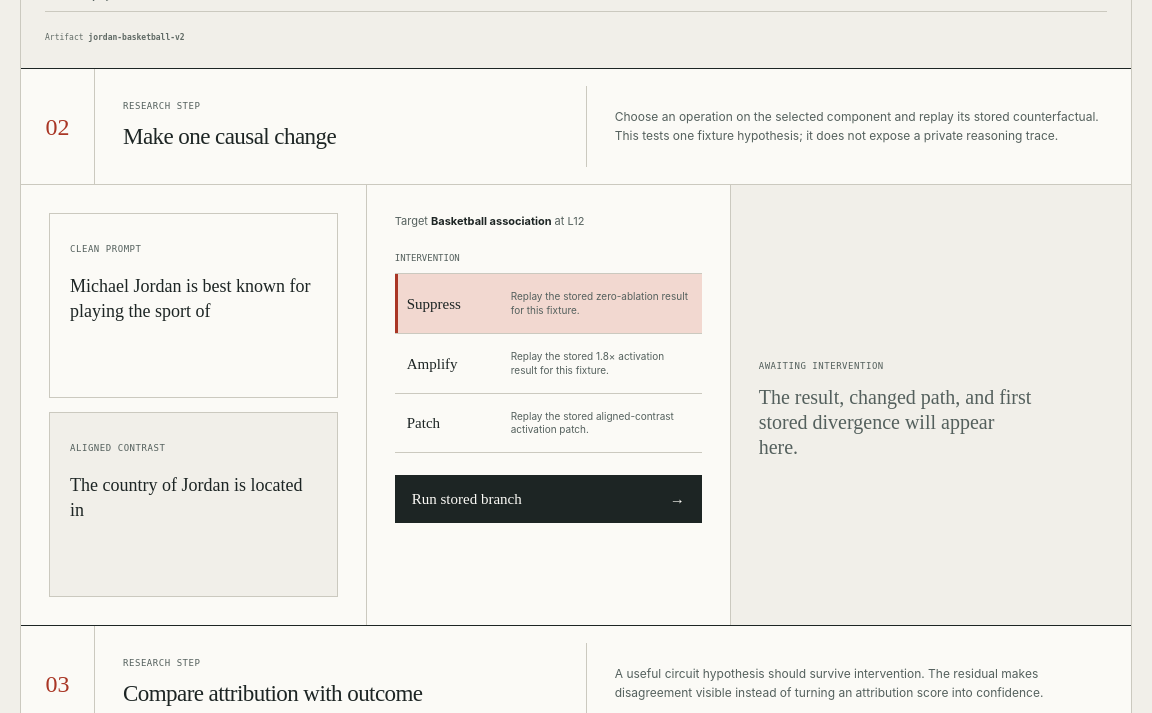
Test case: BranchTraceApp interactions › executes amplify and patch as distinct radio-selected modes
The image size is (1152, 713).
(page scrolled)
Click the radio button with test id "mode-amplify": (548, 363) [395,333,702,393]
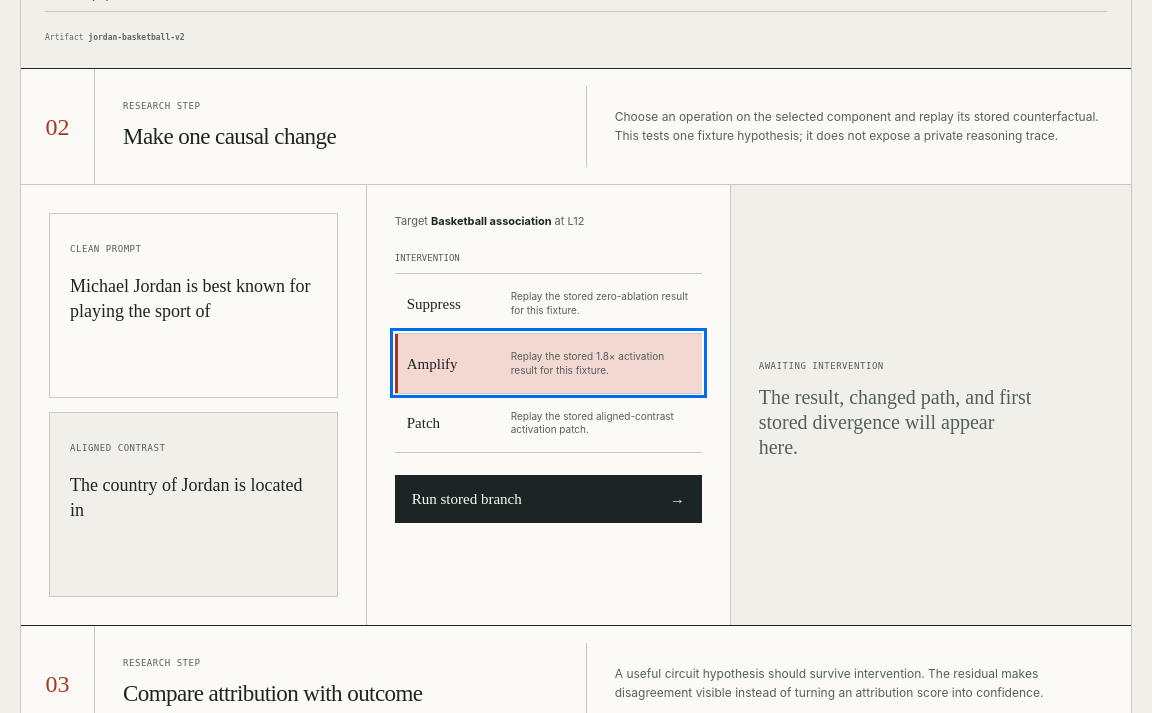
Now the radio button with test id "mode-amplify" is checked, box [395,333,702,393]
Click the button with test id "run-intervention": (467, 499) [395,475,702,523]
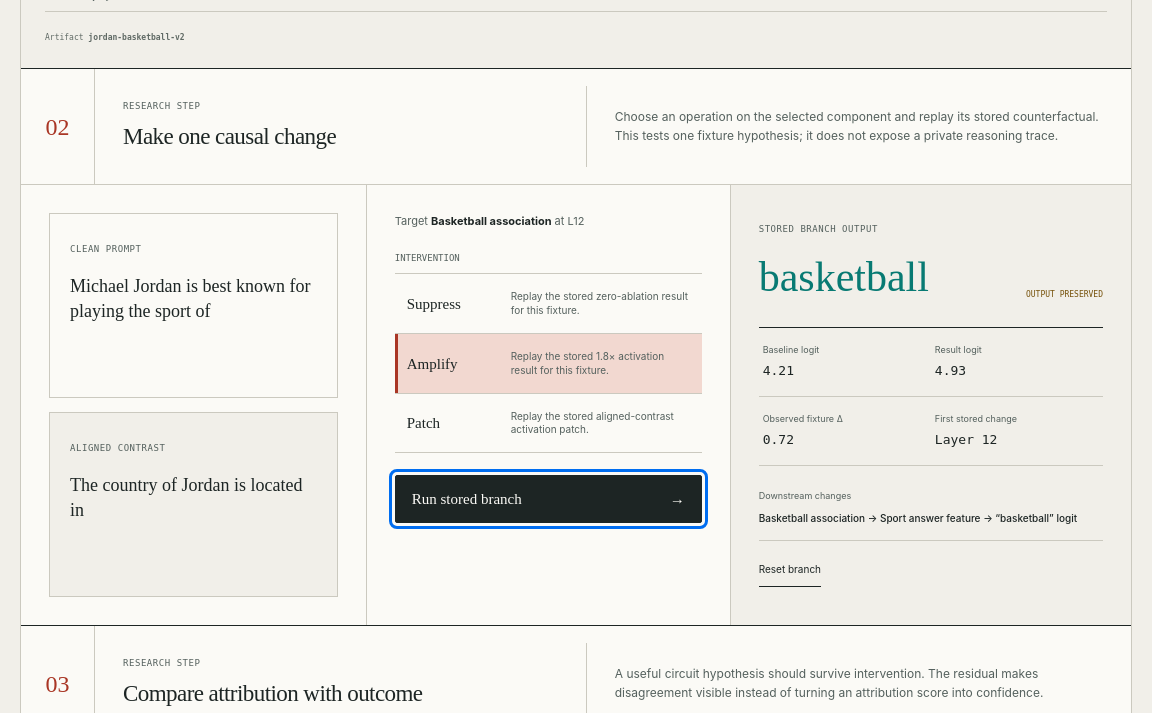
Now the text "basketball" is shown, box [759,254,929,300]
Now the text "0.72" is shown, box [763,432,794,447]
Now the text "Output preserved" is shown, box [1026,289,1103,301]
Click the radio button with test id "mode-patch": (548, 423) [395,393,702,453]
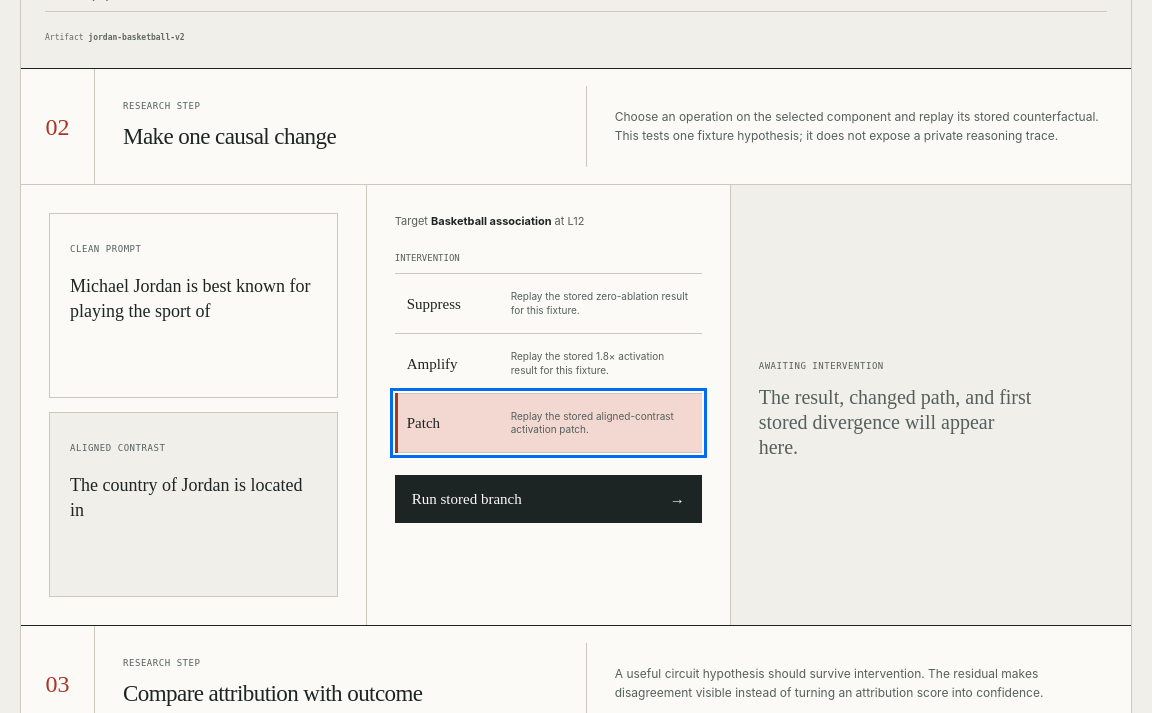
Now the text "Awaiting intervention" is shown, box [759,361,884,371]
Click the button with test id "run-intervention": (467, 499) [395,475,702,523]
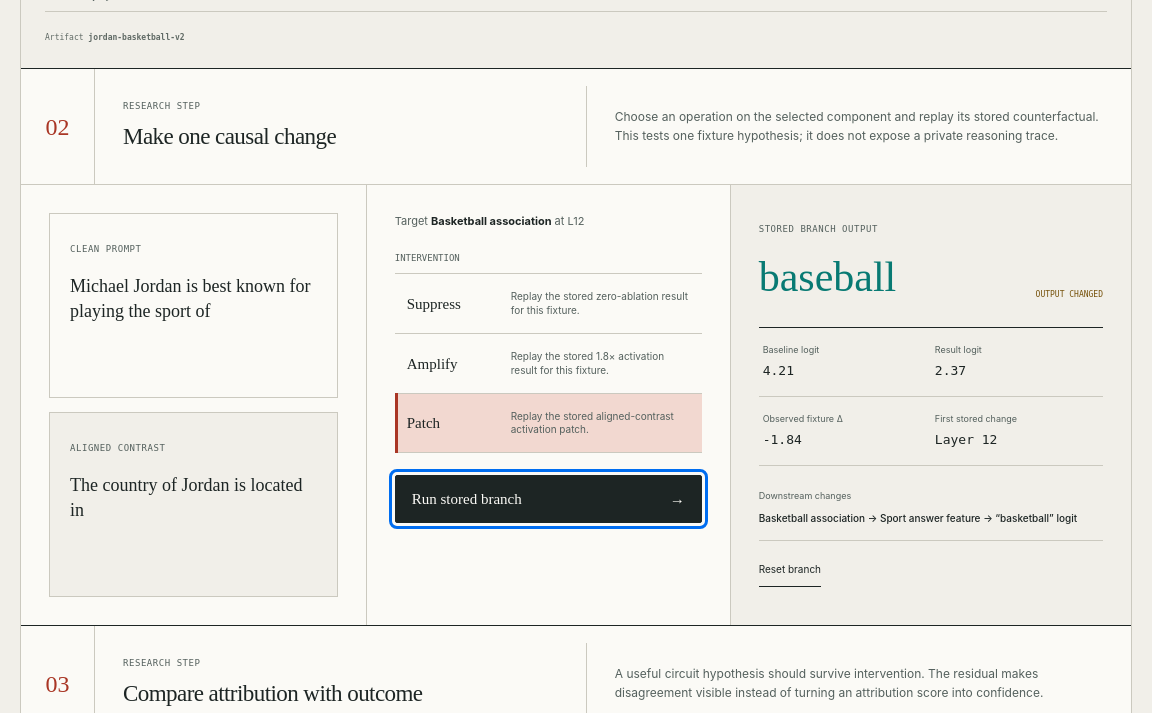
Now the text "baseball" is shown, box [759,254,896,300]
Now the text "Output changed" is shown, box [1036,289,1103,301]
